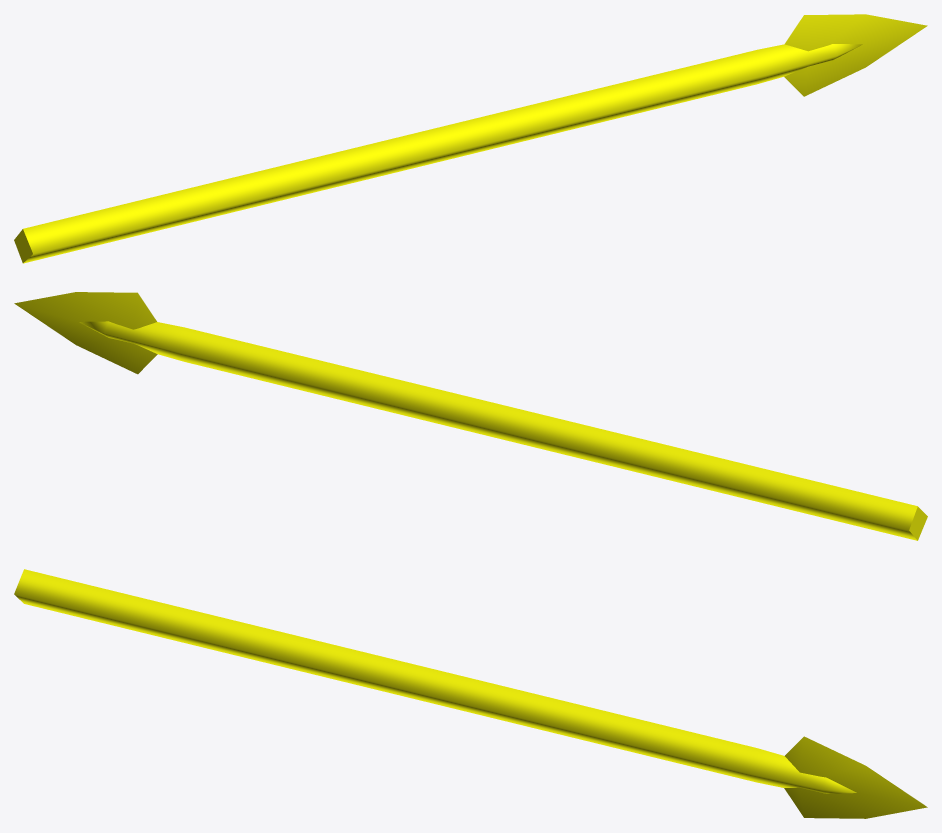
File: BRB_weapon_spear.glb
3 renders of one model, top to bottom at view 1: azimuth 30°, elevation 25°; view 2: azimuth 150°, elevation 25°; view 3: azimuth 330°, elevation 25°, orthographic.
Parts seen in each view (by area): view 1: BRB_weapon_spear; view 2: BRB_weapon_spear; view 3: BRB_weapon_spear.
Boxes of the visible parts, <box> form: BRB_weapon_spear: <box>14,14,927,263</box>; BRB_weapon_spear: <box>14,292,927,540</box>; BRB_weapon_spear: <box>14,569,927,818</box>.
Bounding box in the file's own units: 1.95 × 0.1686 × 0.0712.
Materials: 1 (1 with a texture image).
